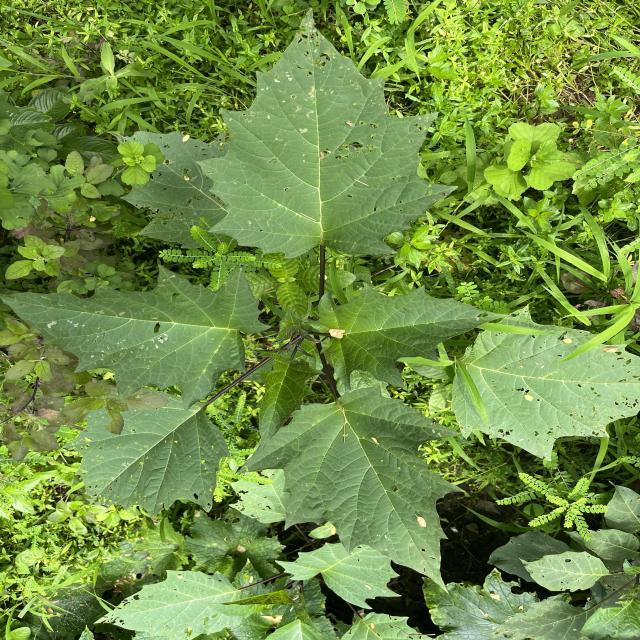Datura metal linn: (193, 6, 460, 260), (236, 381, 467, 596), (0, 263, 274, 415), (450, 302, 640, 462), (59, 386, 233, 523), (300, 283, 514, 392), (91, 567, 248, 640), (258, 350, 326, 457), (516, 549, 611, 594), (199, 590, 301, 620)
